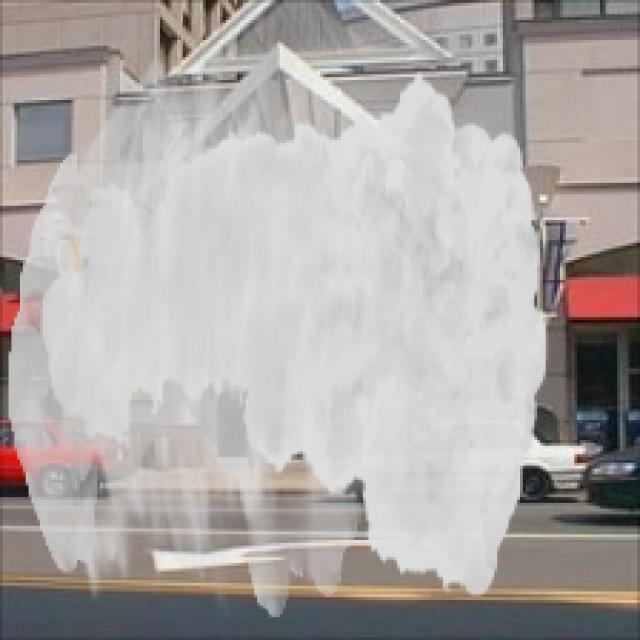smoke: (9, 49, 548, 617)
